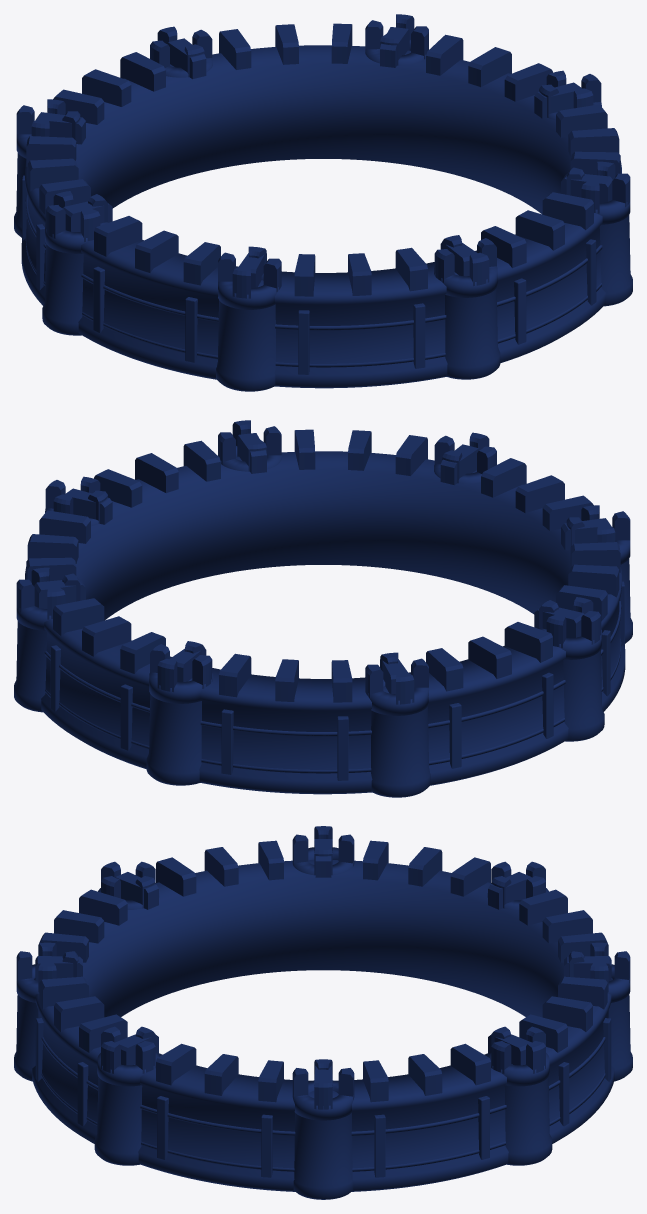
Rendered from city-wall-blue.fbx.
3 views of the same model, one above another, from view 1: azimuth 30°, elevation 25°; view 2: azimuth 150°, elevation 25°; view 3: azimuth 270°, elevation 25° (orthographic). The views are drawn at different scales.
Parts seen in each view (by area): view 1: City_Wall_Moulded_Ring; view 2: City_Wall_Moulded_Ring; view 3: City_Wall_Moulded_Ring.
Boxes of the visible parts, <box> form: City_Wall_Moulded_Ring: <box>14,14,632,391</box>; City_Wall_Moulded_Ring: <box>14,420,632,797</box>; City_Wall_Moulded_Ring: <box>14,826,632,1199</box>.
Bounding box in the file's own units: 0.024 × 0.005 × 0.024.
